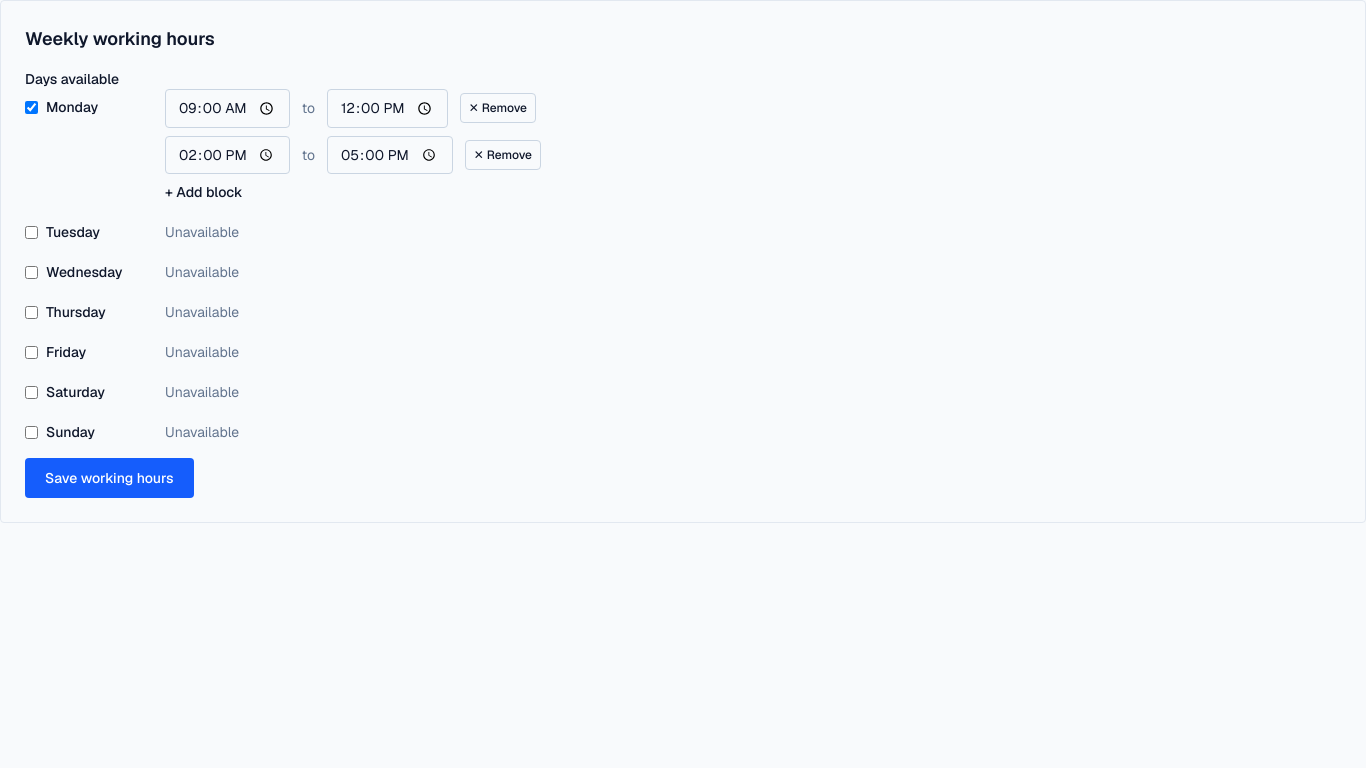
Test case: WorkingHoursSection › '✕ Remove' removes one block; removing the last block unchecks the day
Click the button with aria-label "remove monday block 2" at (503, 155), box x1=465 y1=140 x2=541 y2=170
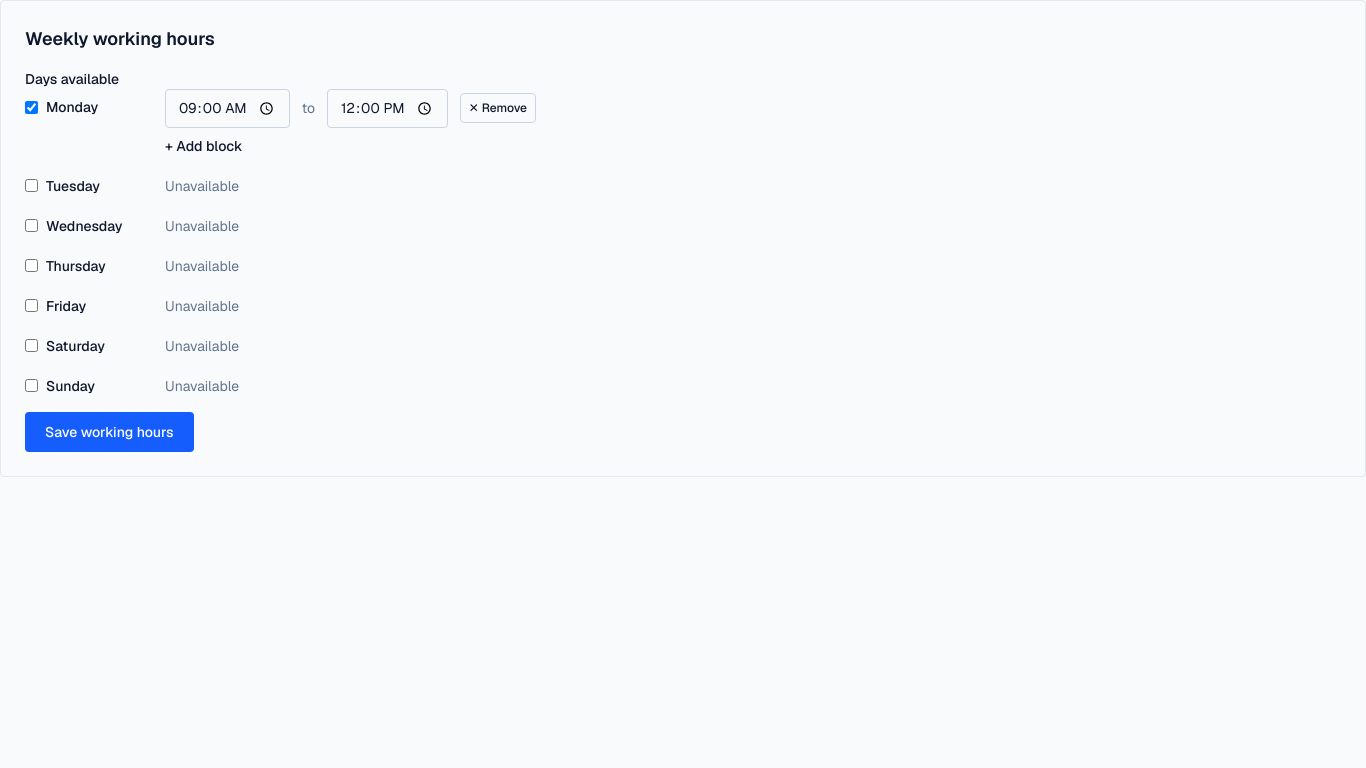
Check: the 1st time field named "Monday block 1 start time" holds "09:00", box x1=165 y1=89 x2=290 y2=128
Check: the field labelled "Monday block 2 start time" is not shown
Click the button with aria-label "remove monday block 1" at (498, 108), box x1=460 y1=93 x2=536 y2=123
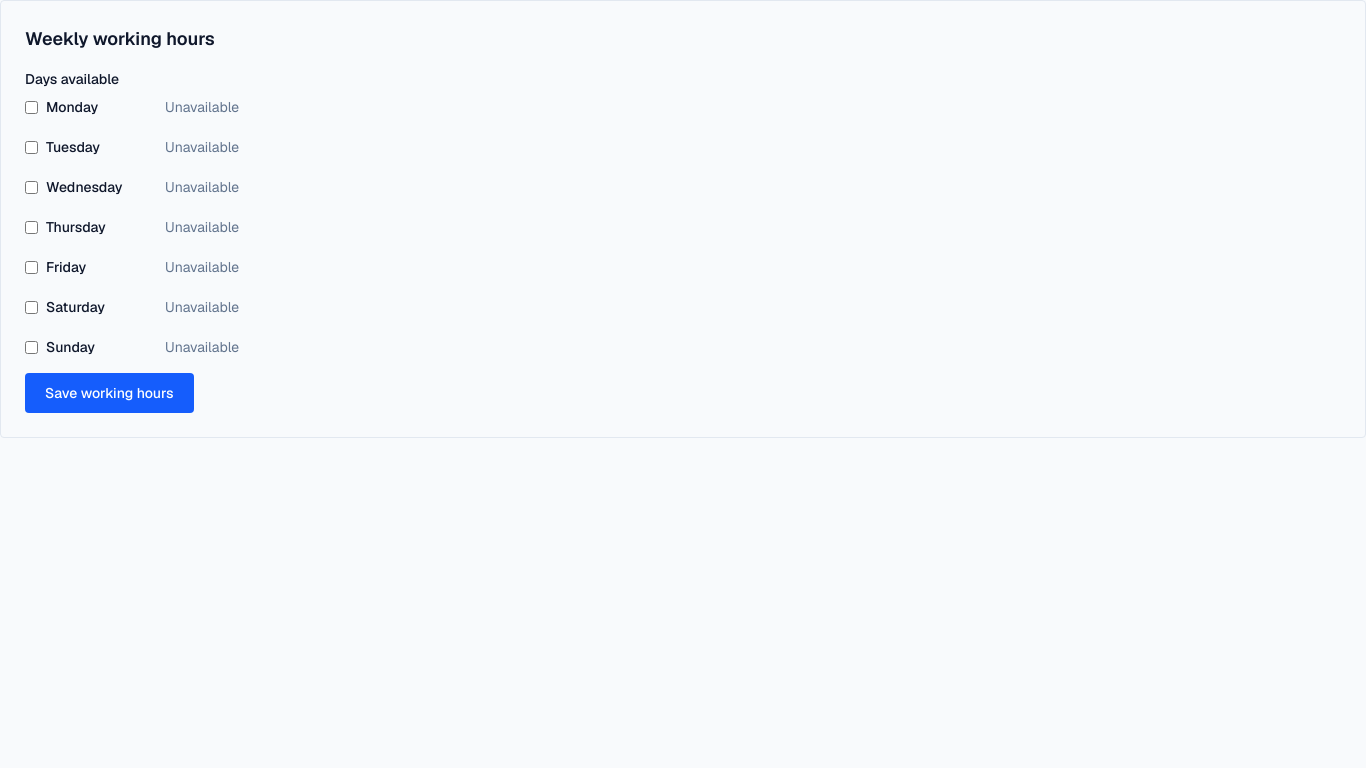
Check: the checkbox labelled "Monday" is not checked, box x1=25 y1=100 x2=38 y2=114
Check: the text "Unavailable" is shown 7 times
Check: the time field labelled "Monday block 1 start time" is gone
